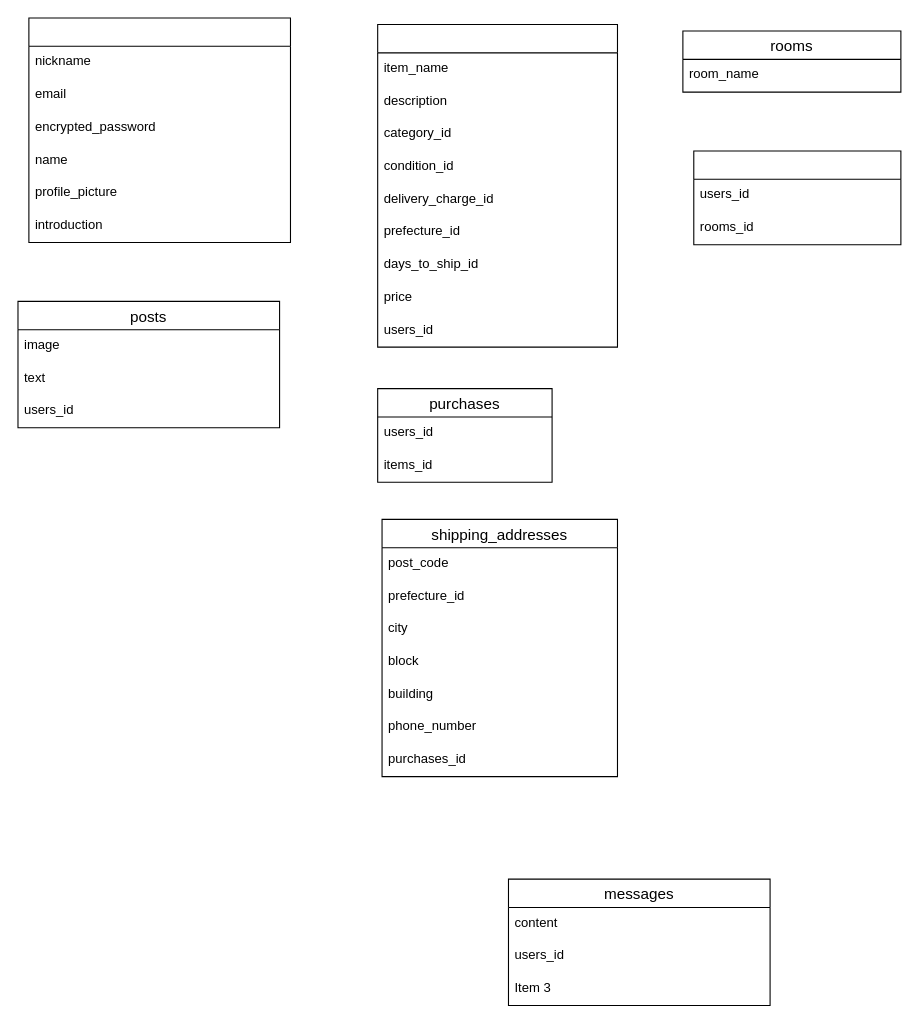
This 919x1024 diagram has some shape labels left out. Here are the shapes that lost their labels. From the top down, the box of each, then its label:
(28, 17, 290, 243): users
(377, 23, 617, 347): items
(693, 150, 901, 245): room_users
